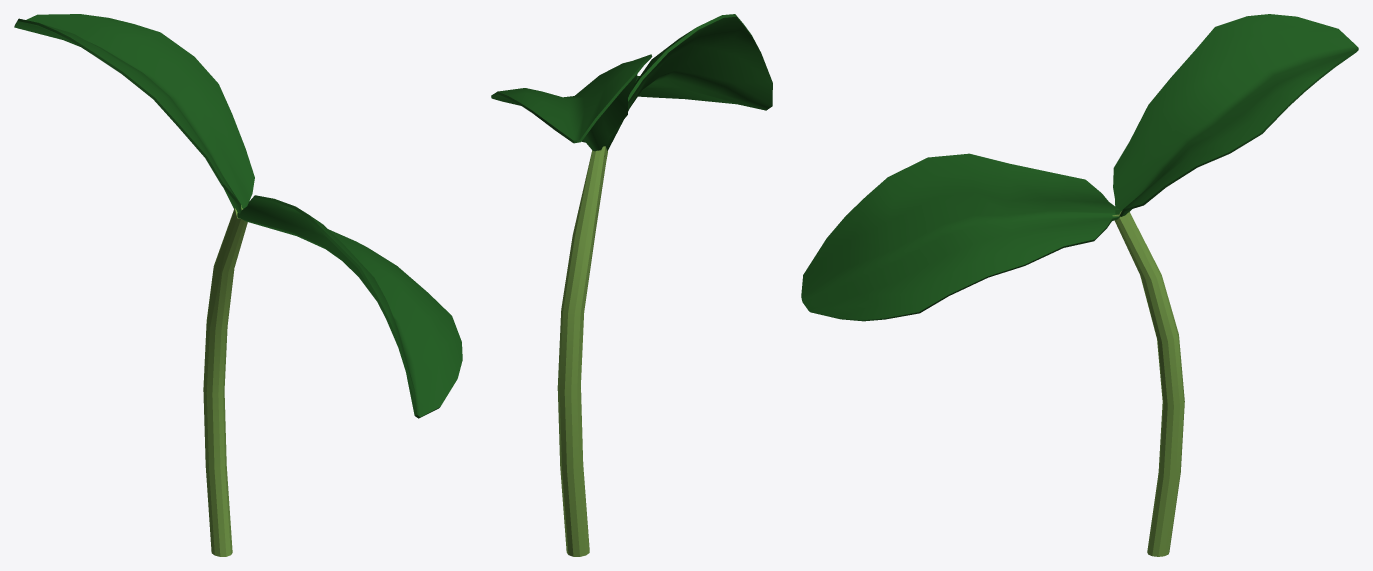
File: pumpkin_st1.fbx
3 views of the same model, side by side, from view 1: azimuth 30°, elevation 25°; view 2: azimuth 150°, elevation 25°; view 3: azimuth 270°, elevation 25° (orthographic). The views are drawn at different scales.
Visible parts, largest first — view 1: pumpkin_st1; view 2: pumpkin_st1; view 3: pumpkin_st1.
Part boxes in pixels (x1,y1,x2,y2): pumpkin_st1: (14,14,462,556); pumpkin_st1: (491,14,772,556); pumpkin_st1: (801,14,1358,556).
Size of the model in its own units: 0.667 by 1.49 by 1.54.
